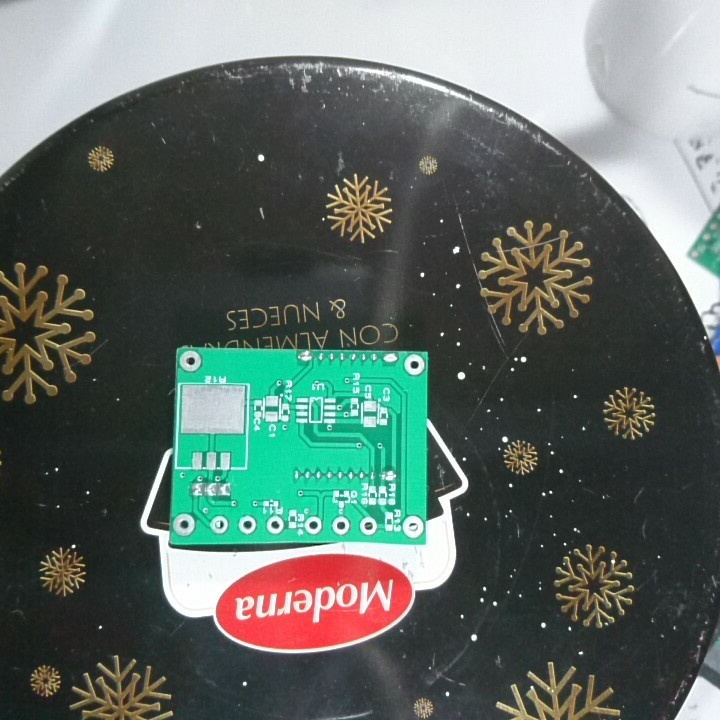F: (178, 348, 204, 376), (172, 512, 199, 538), (400, 513, 424, 540), (402, 353, 427, 376), (301, 513, 323, 537), (357, 514, 378, 538), (237, 512, 257, 537), (208, 514, 230, 535), (262, 513, 283, 535), (329, 514, 350, 535)
P: (377, 467, 399, 485), (379, 349, 399, 366), (294, 349, 313, 365)
